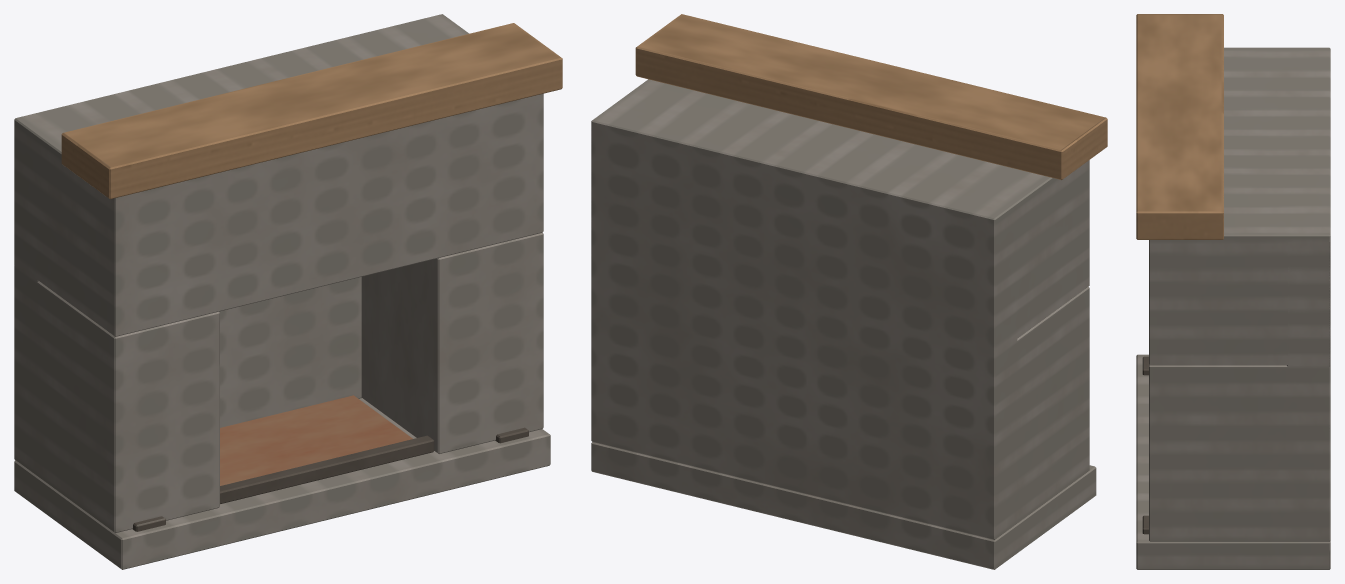
The model's file is furn_hearth.glb.
3 renders of one model, left to right at view 1: azimuth 30°, elevation 25°; view 2: azimuth 150°, elevation 25°; view 3: azimuth 270°, elevation 25°, orthographic. The views are drawn at different scales.
Visible parts, largest first — view 1: furn_hearth; view 2: furn_hearth; view 3: furn_hearth.
Part boxes in pixels (left/top/right/bottom): furn_hearth: left=14, top=14, right=562, bottom=569; furn_hearth: left=591, top=14, right=1107, bottom=569; furn_hearth: left=1136, top=14, right=1330, bottom=569.
Bounding box in the file's own units: 1.5 × 1.28 × 0.62.
Materials: 1 (1 with a texture image).
